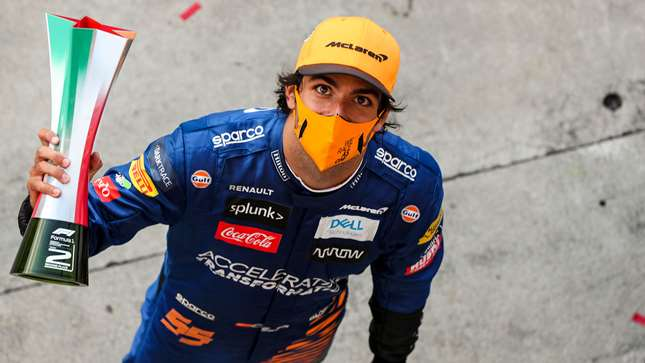with_mask: (305, 78, 374, 161)
